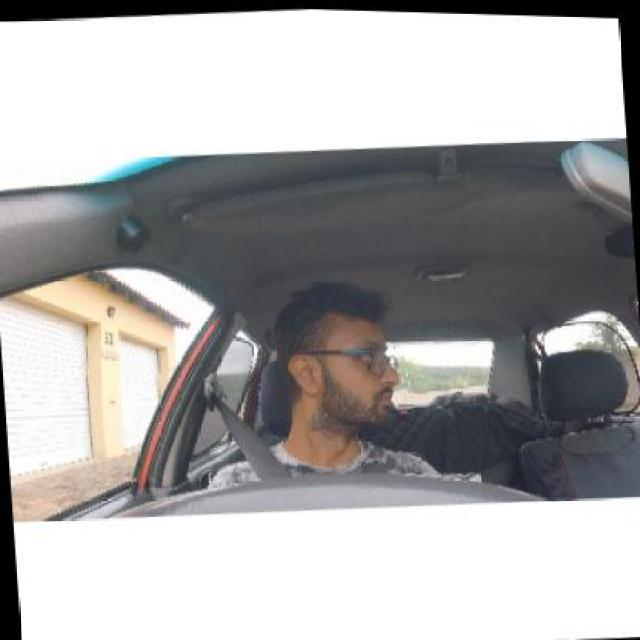LeftRight: (267, 290, 413, 439)
